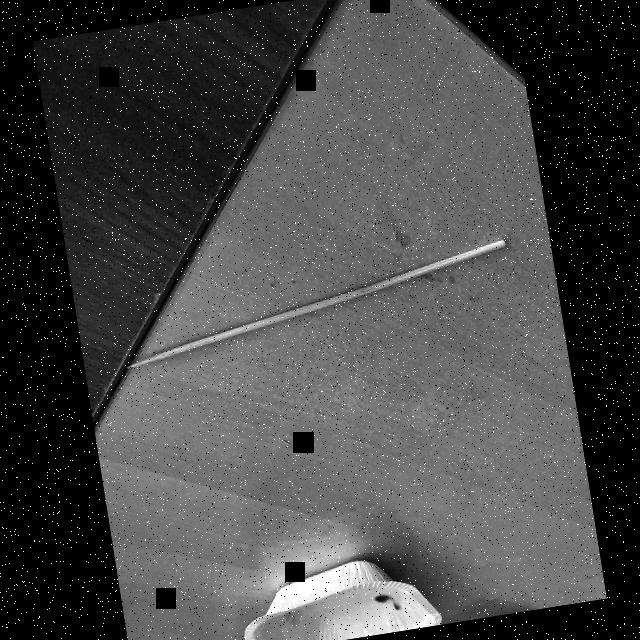cardboard_bowl: (219, 528, 447, 640)
stick: (95, 207, 528, 391)
